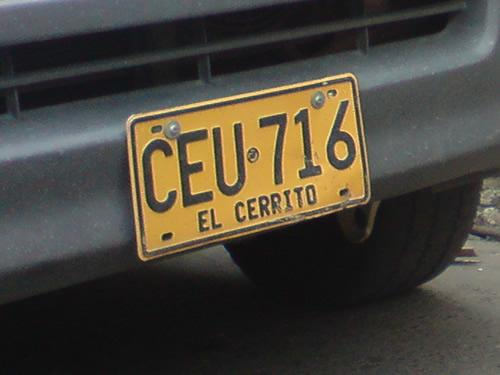placas: (123, 69, 373, 262)
